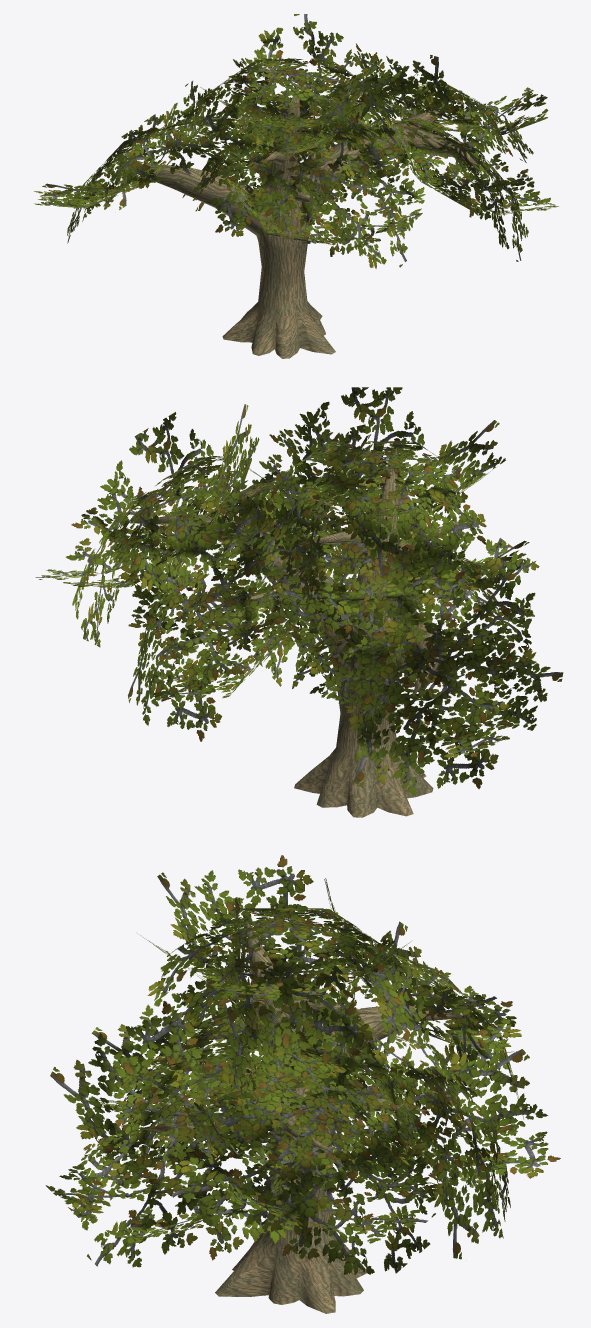
The model's file is oaktree.FBX.
3 views of the same model, one above another, from view 1: azimuth 30°, elevation 25°; view 2: azimuth 150°, elevation 25°; view 3: azimuth 270°, elevation 25° (orthographic). The views are drawn at different scales.
Parts seen in each view (by area): view 1: C5SNTREEOAK; view 2: C5SNTREEOAK; view 3: C5SNTREEOAK.
Boxes of the visible parts, left/top/right/bottom form: C5SNTREEOAK: left=34, top=14, right=558, bottom=358; C5SNTREEOAK: left=35, top=387, right=563, bottom=817; C5SNTREEOAK: left=45, top=855, right=560, bottom=1313.
Bounding box in the file's own units: 48.38 × 27.62 × 37.56.
Materials: 2 (2 with a texture image).
